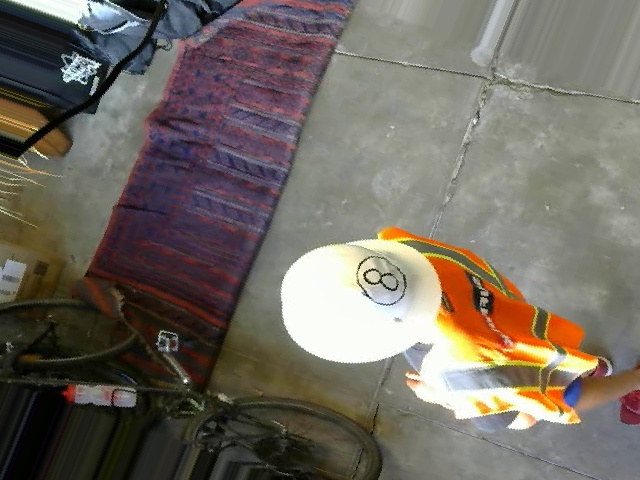eight: (344, 248, 415, 311)
